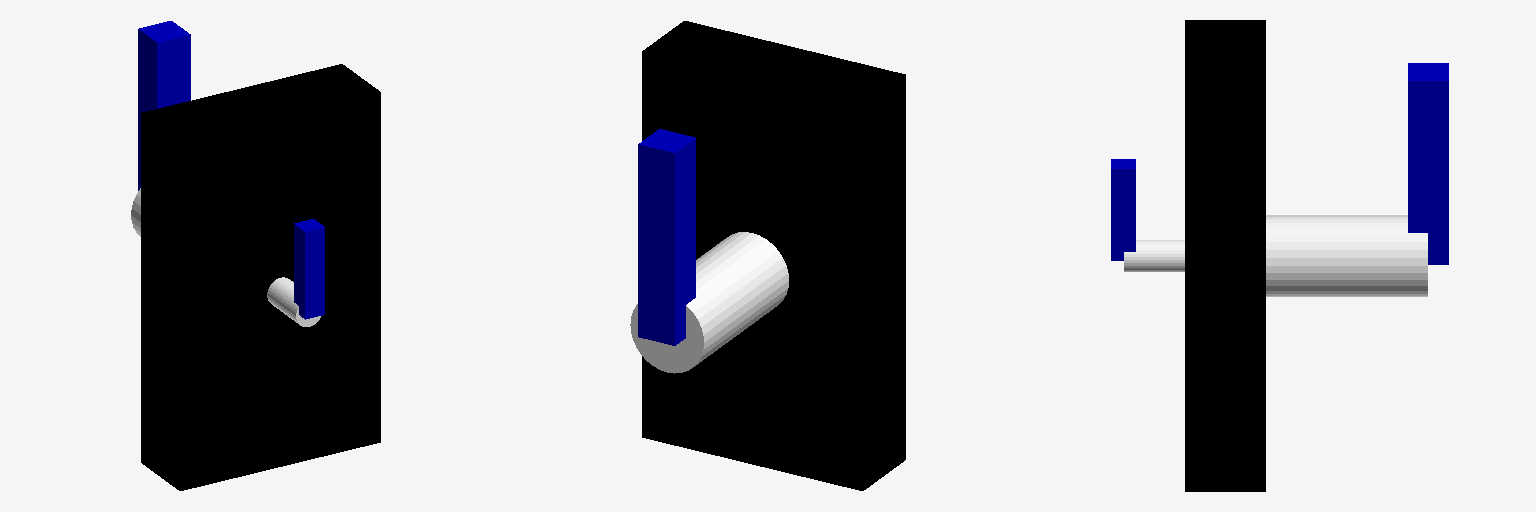
URDF robot description (robot_mock):
<?xml version="1.0"?>
<robot name="robot_mock">

  <material name="blue">
    <color rgba="0 0 0.8 1"/>
  </material>
  <material name="black">
    <color rgba="0 0 0 1"/>
  </material>
  <material name="white">
    <color rgba="1 1 1 1"/>
  </material>

  <link name="base_link">
    <visual>
      <geometry>
        <box size="0.3 0.1 0.5"/>
      </geometry>
      <origin rpy="0 0 0" xyz="0 0 0.25"/>
      <material name="black"/>
    </visual>
  </link>
  
  <link name="shoulder_link"/>
  
  <joint name="base_to_shoulder" type="fixed">
    <parent link="base_link"/>
    <child link="shoulder_link"/>
    <origin xyz="0 0 0.25"/>
  </joint>
  
  <link name="arm_right_link">
    <visual>
      <geometry>
        <cylinder length="0.25" radius="0.05"/>
      </geometry>
      <origin rpy="1.57075 0 0" xyz="0 -0.125 0"/>
      <material name="white"/>
    </visual>
  </link>
  
  <joint name="shoulder_to_right_arm" type="continuous">
    <parent link="shoulder_link"/>
    <child link="arm_right_link"/>
    <axis xyz="0 1 0"/>
    <origin xyz="0 0.25 0"/>
  </joint>

  <link name="hand_right_link">
    <visual>
      <geometry>
        <box size="0.05 0.05 0.25"/>
      </geometry>
      <origin rpy="0 0 0" xyz="0 0 -0.125"/>
      <material name="blue"/>
    </visual>
      <origin rpy="0.0 0 0" xyz="0 0 0"/>
  </link>

  <joint name="arm_right_to_hand_right" type="fixed">
    <parent link="arm_right_link"/>
    <child link="hand_right_link"/>
    <origin xyz="0 0 0.25"/>
  </joint>

  <link name="arm_left_link">
    <visual>
      <geometry>
        <cylinder length="0.125" radius="0.02"/>
      </geometry>
      <origin rpy="1.57075 0 0" xyz="0 0.0625 0"/>
      <material name="white"/>
    </visual>
  </link>

  <joint name="shoulder_to_left_arm" type="continuous">
    <parent link="shoulder_link"/>
    <child link="arm_left_link"/>
    <axis xyz="0 1 0"/>
    <origin xyz="0 -0.125 0"/>
  </joint>

  <link name="hand_left_link">
    <visual>
      <geometry>
        <box size="0.03 0.03 0.125"/>
      </geometry>
      <origin rpy="0 0 0" xyz="0 0 -0.0625"/>
      <material name="blue"/>
    </visual>
      <origin rpy="0.0 0 0" xyz="0 0 0"/>
  </link>

  <joint name="arm_left_to_hand_left" type="fixed">
    <parent link="arm_left_link"/>
    <child link="hand_left_link"/>
    <origin xyz="0 0 0.125"/>
  </joint>

</robot>

--- Facts derived from the render (not from the file) ---
The picture shows the robot from 3 angles, left to right: view 1: azimuth 30°, elevation 25°; view 2: azimuth 150°, elevation 25°; view 3: azimuth 270°, elevation 25°; orthographic projection.
Robot: robot_mock — 6 links, 5 joints (2 continuous, 3 fixed); root link base_link; default pose: all joints at 0.
Links seen in each view (by area): view 1: base_link, hand_right_link, hand_left_link, arm_left_link; view 2: base_link, hand_right_link, arm_right_link; view 3: base_link, arm_right_link, hand_right_link, hand_left_link, arm_left_link.
Boxes of the visible links, x1=… form: base_link: x1=141, y1=64, x2=380, y2=490; hand_right_link: x1=138, y1=21, x2=190, y2=190; hand_left_link: x1=294, y1=219, x2=324, y2=319; arm_left_link: x1=267, y1=277, x2=320, y2=326; base_link: x1=642, y1=21, x2=905, y2=490; hand_right_link: x1=638, y1=129, x2=695, y2=345; arm_right_link: x1=630, y1=232, x2=788, y2=373; base_link: x1=1185, y1=20, x2=1265, y2=491; arm_right_link: x1=1266, y1=215, x2=1427, y2=296; hand_right_link: x1=1408, y1=63, x2=1448, y2=264; hand_left_link: x1=1111, y1=159, x2=1135, y2=260; arm_left_link: x1=1124, y1=240, x2=1184, y2=271.
Bounding box of the posed robot: 0.3 × 0.415 × 0.5 m (x, y, z).
Geometry: primitives only (box / cylinder / sphere), no mesh files.